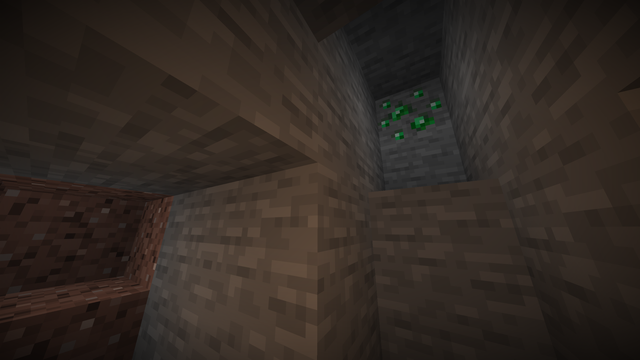emerald: (374, 86, 449, 143)
